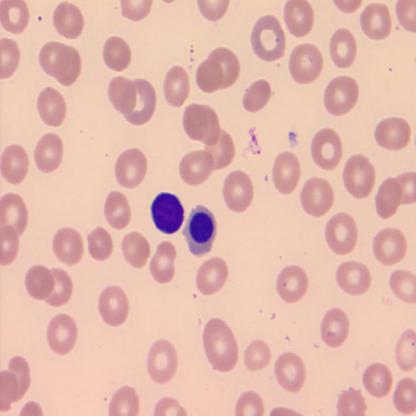NRC: (149, 189, 219, 257)
